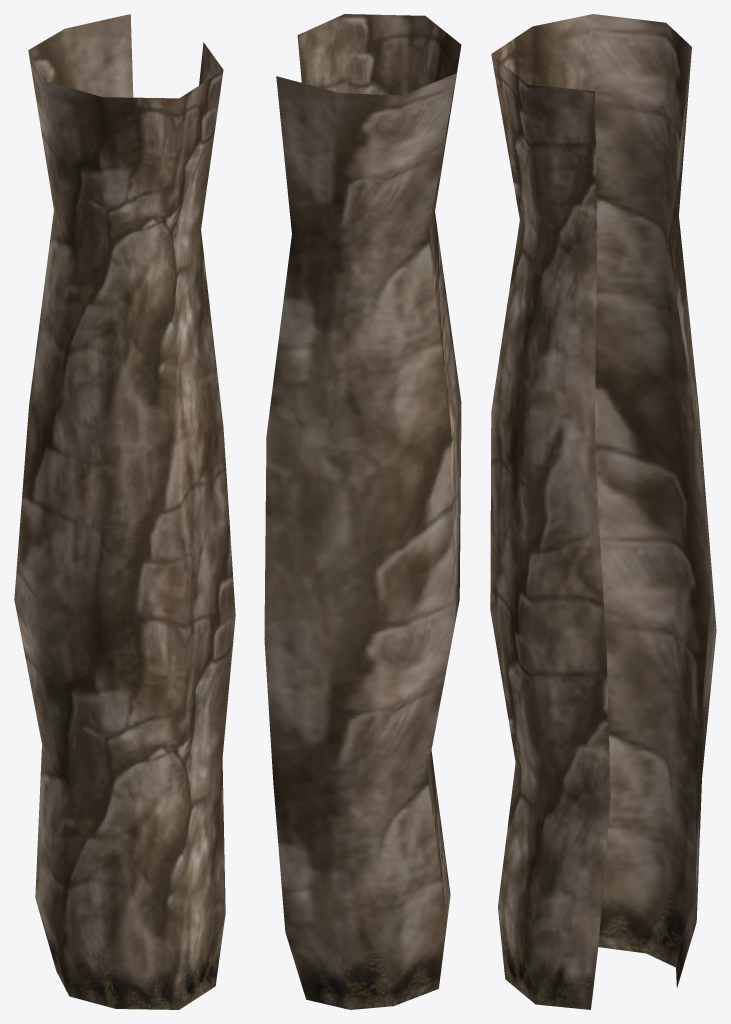
File: OVERHILL_A_01_LINE347.fbx
3 views of the same model, side by side, from view 1: azimuth 30°, elevation 25°; view 2: azimuth 150°, elevation 25°; view 3: azimuth 270°, elevation 25° (orthographic).
Visible parts, largest first — view 1: OVERHILL_A_01_LINE347; view 2: OVERHILL_A_01_LINE347; view 3: OVERHILL_A_01_LINE347.
Boxes of the visible parts, x1,y1,x2,y2 form: OVERHILL_A_01_LINE347: [14, 14, 235, 1009]; OVERHILL_A_01_LINE347: [264, 14, 461, 1009]; OVERHILL_A_01_LINE347: [490, 14, 716, 1009].
Size of the model in its own units: 21862 by 109001 by 24233.
Materials: 2 (2 with a texture image).
